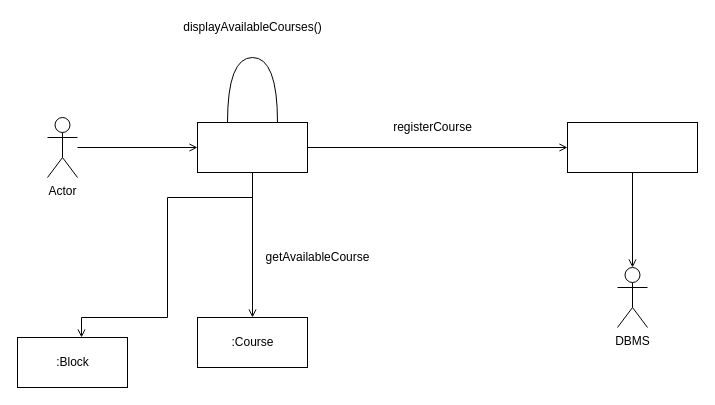
The diagram is 715 pixels wide and 405 high, and some of its shapes have lost their labels. Each missing label, with the centre of its shape:
:CourseRegController: pixel 632 147
:CourseRegForm: pixel 252 147
